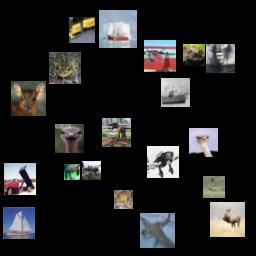airplane: (140, 213, 175, 248), (144, 40, 176, 72), (147, 146, 179, 178), (82, 161, 101, 180)
bird: (189, 128, 218, 157), (55, 124, 84, 153)
deer: (11, 81, 46, 116), (210, 202, 245, 237), (203, 176, 225, 198)
frog: (49, 52, 81, 84), (183, 44, 205, 66), (114, 190, 133, 209)
ship: (99, 10, 137, 48), (3, 207, 35, 239), (206, 44, 235, 73), (161, 78, 190, 107)
truck: (4, 163, 36, 195), (69, 17, 95, 43)
